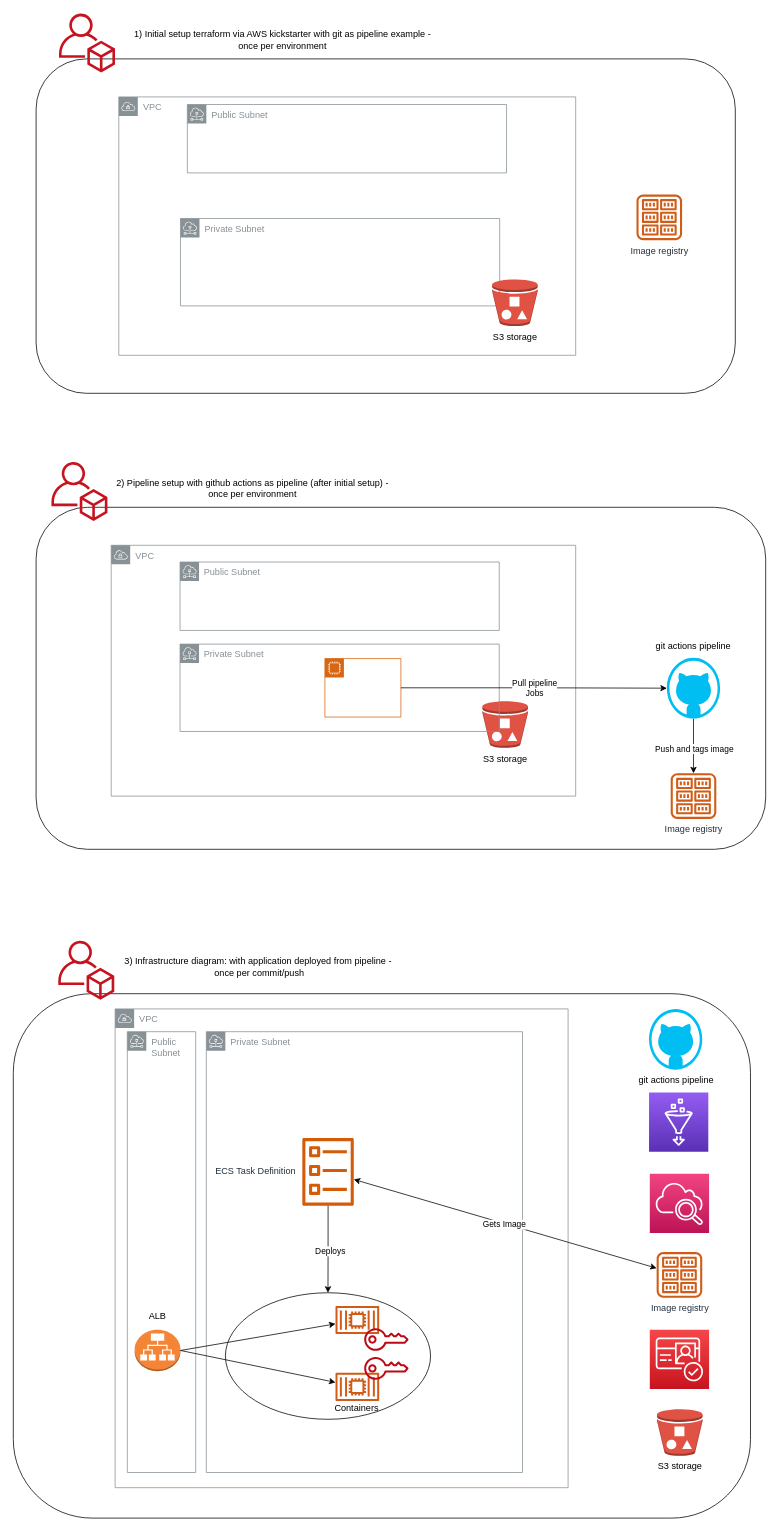
Image size: 779x1531. Some labels were removed from this diagram. Here are the shapes that lost their labels. From the top down, the centre of each, then its label:
point 362,687: EC2 instance with action runner
point 678,1122: Glue catalogue
point 679,1203: Cloudwatch
point 679,1359: Cognito
